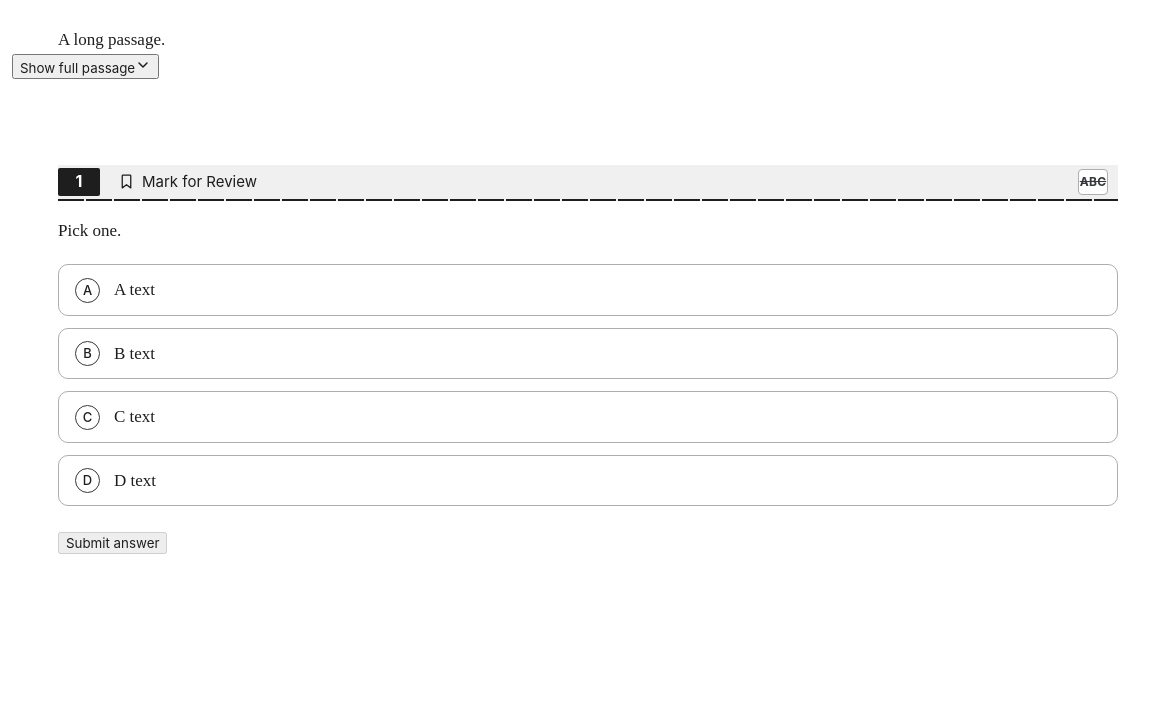
caps a tall phone passage behind a toggle that opens it inline (P-64)
Click the button "Show full passage".
click(86, 66)  # box [12, 54, 159, 78]
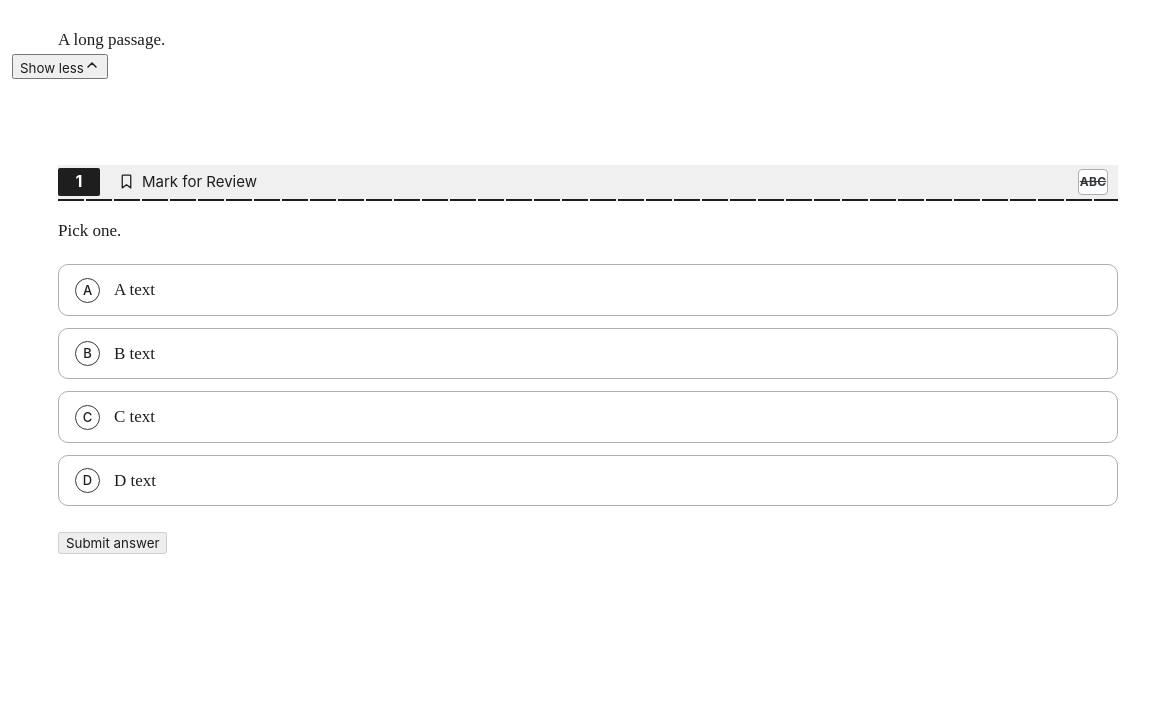
Check: the button "Show less" is expanded, box [12, 54, 108, 78]
Check: the button "Show less" is shown, box [12, 54, 108, 78]
